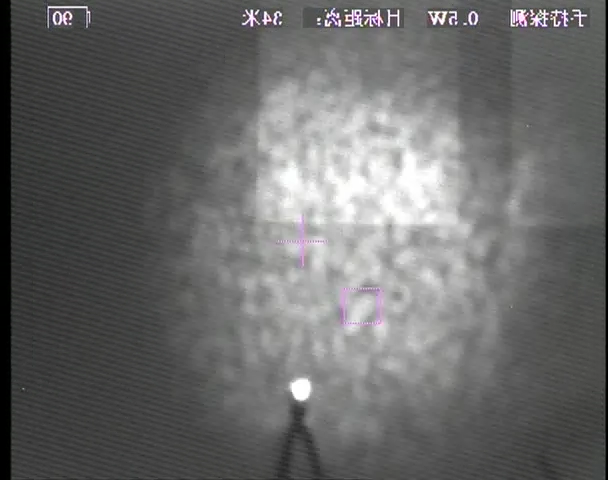my: (288, 377, 314, 403)
